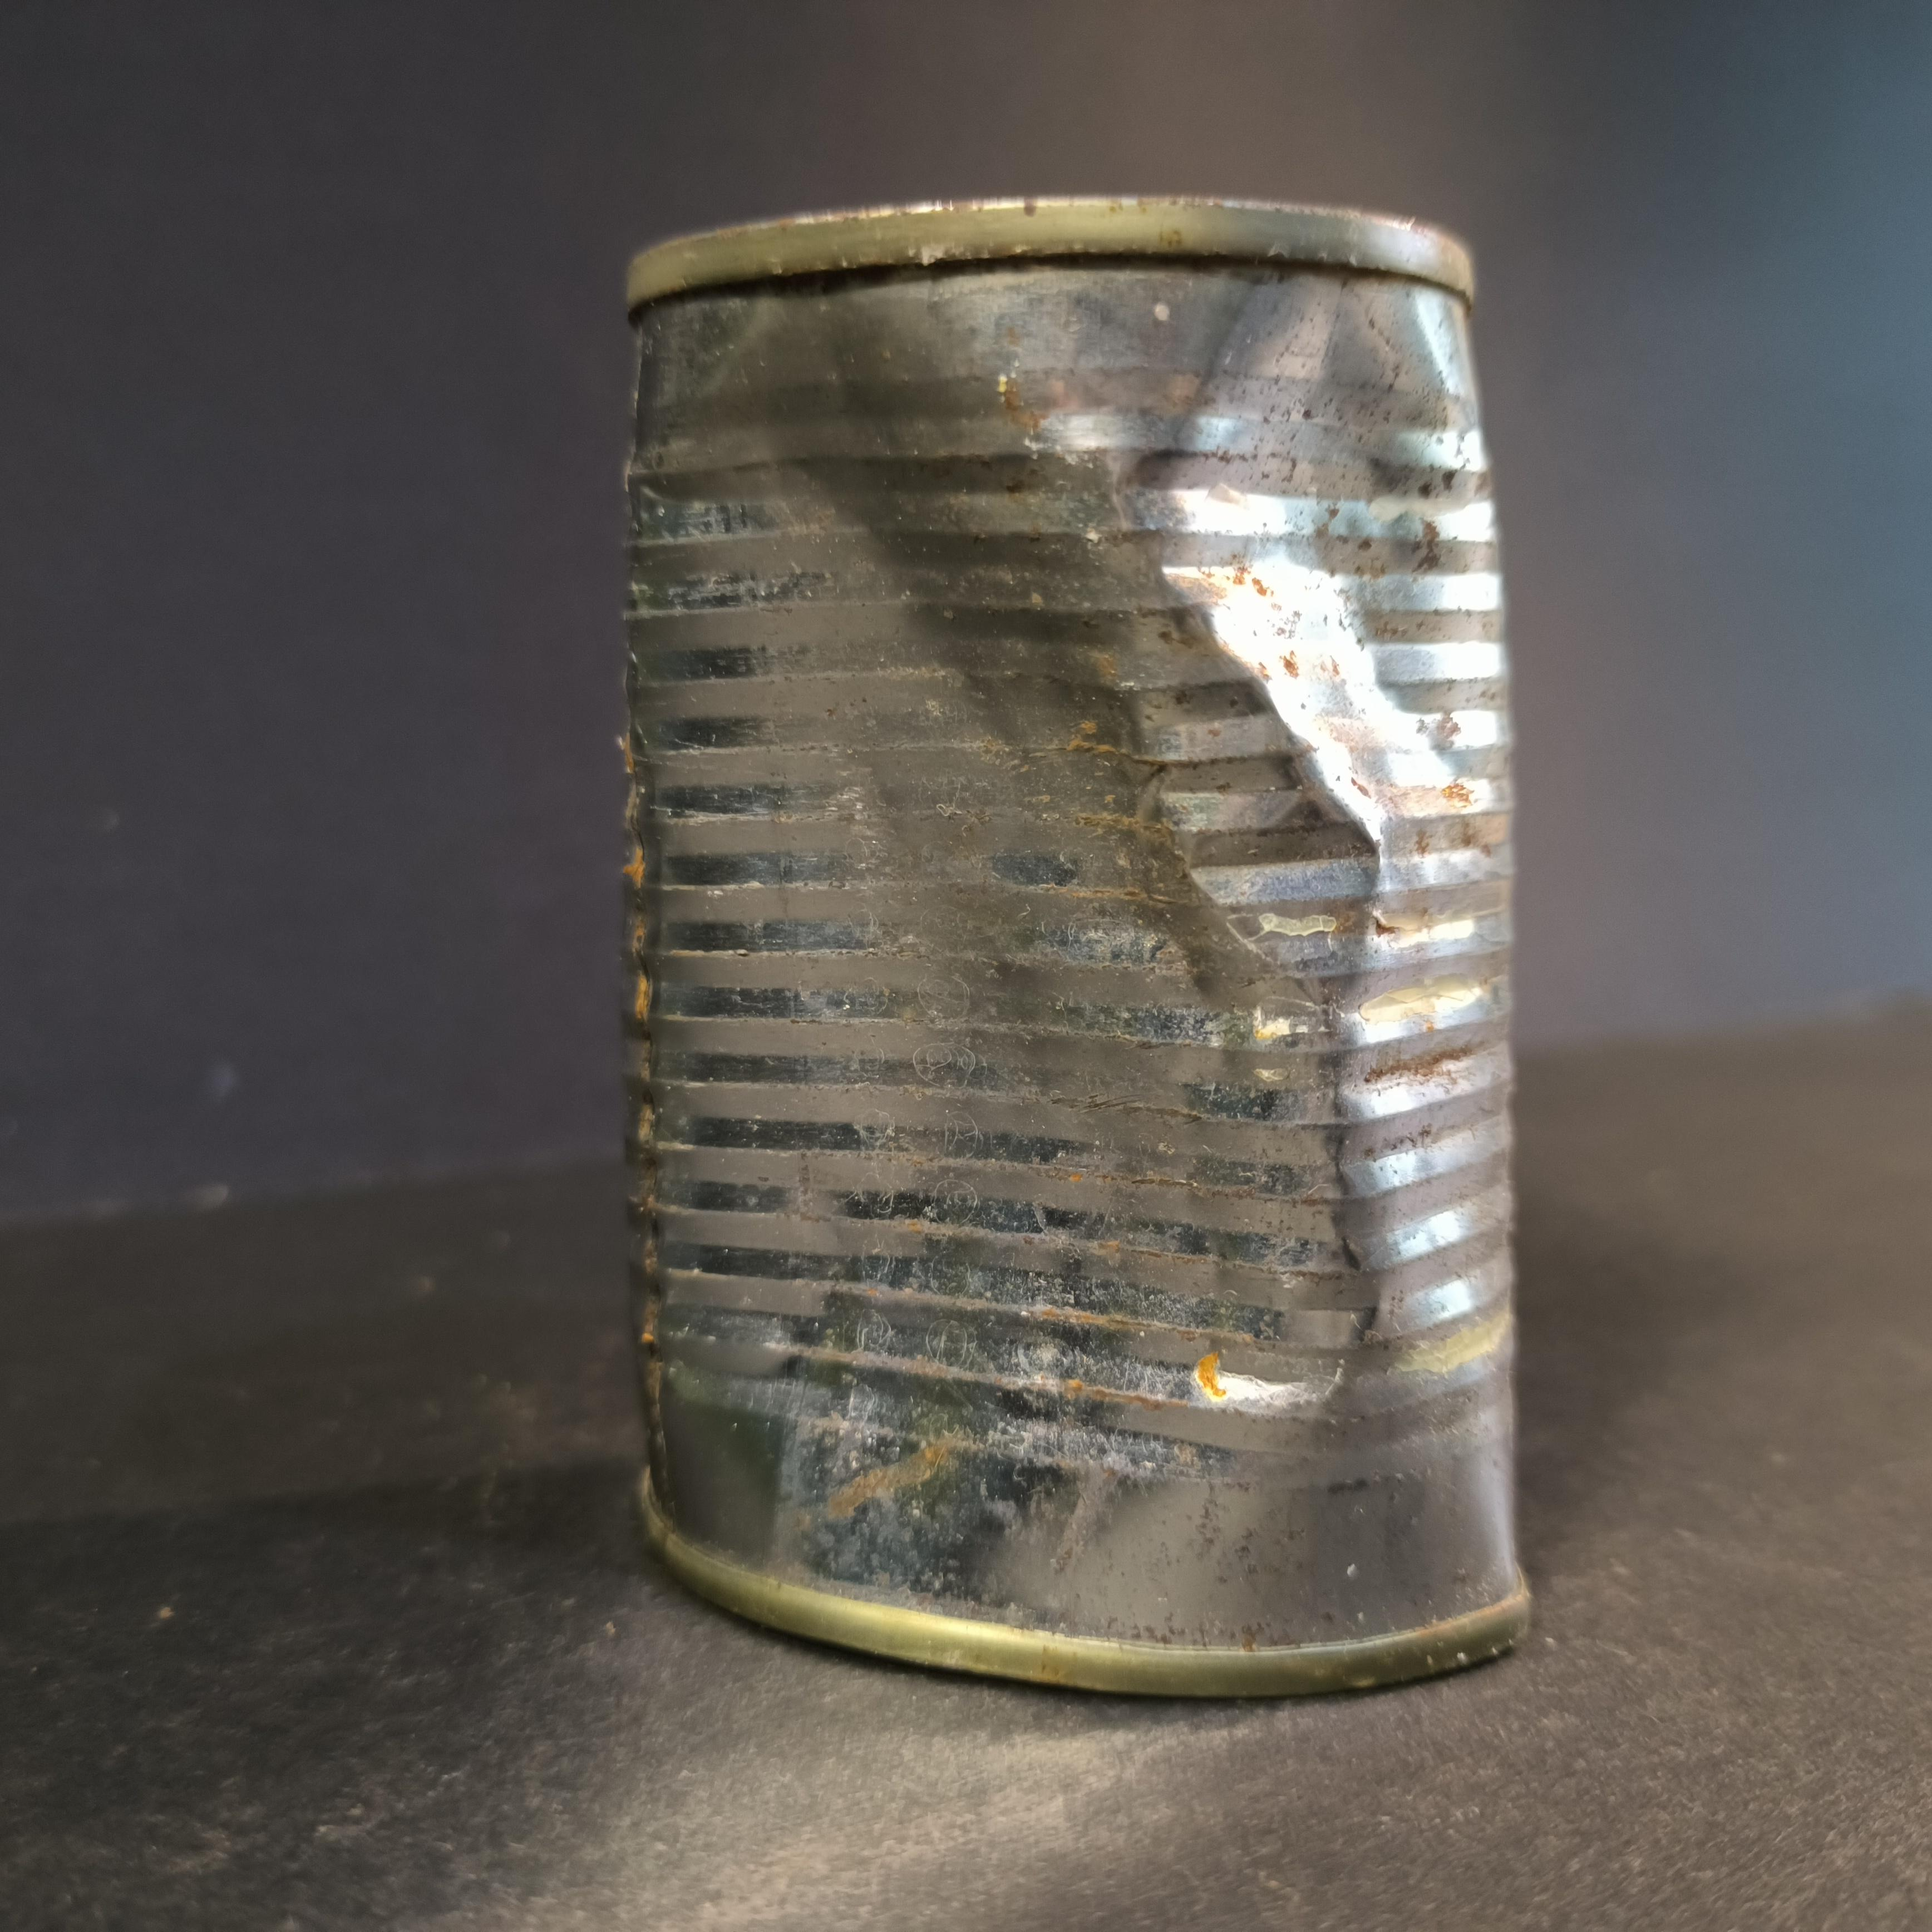Major Defect: (622, 192, 1534, 1700)
